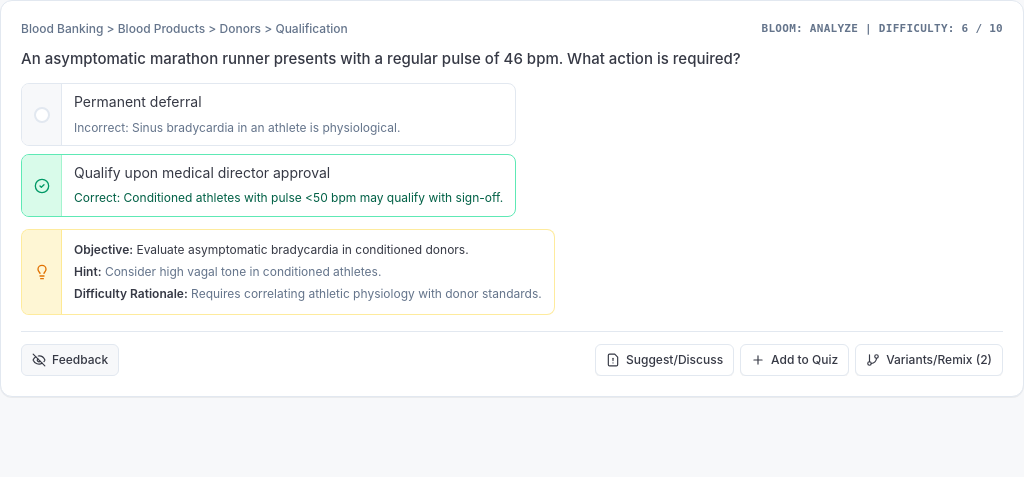
Test case: QuestionCard › renders header bloom/difficulty, removes metadata aside, and switches variants with slide direction
The width and height of the screenshot is (1024, 477).
Check: the text "BLOOM: Analyze | DIFFICULTY: 6 / 10" is shown, box top-left (762, 22), bottom-right (1003, 36)
Check: the text "An asymptomatic marathon runner" is shown, box top-left (21, 49), bottom-right (741, 68)
Click the button "Variants/Remix (2)" at (929, 360), box top-left (855, 344), bottom-right (1003, 376)
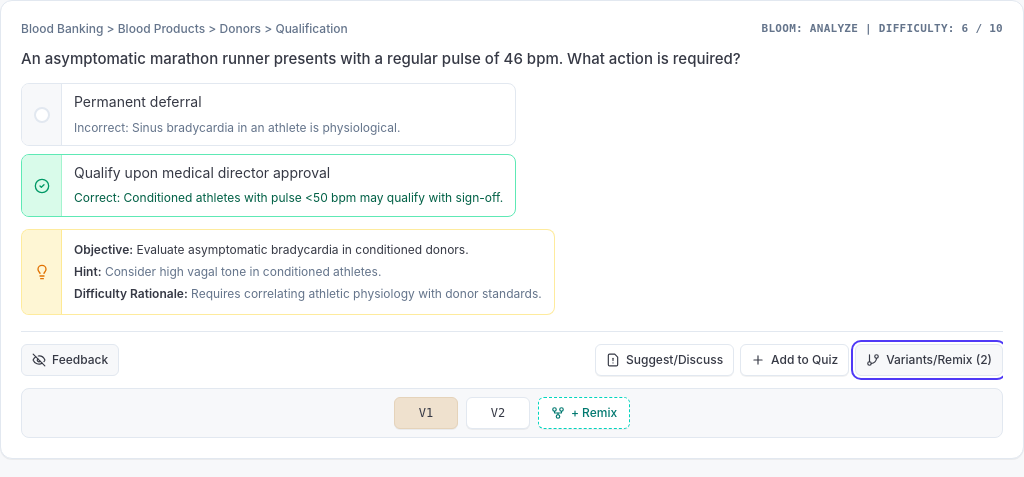
Check: the button "V2" is enabled
Check: the button "+ Remix" is shown, box top-left (538, 397), bottom-right (630, 429)
Click the button "V2" at (498, 413), box top-left (466, 397), bottom-right (530, 429)
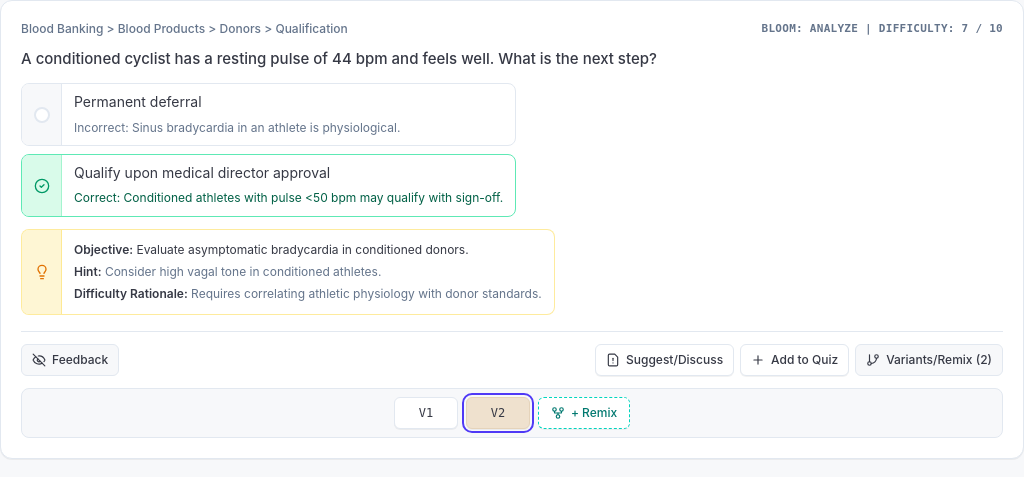
Check: the text "A conditioned cyclist" is shown, box top-left (21, 49), bottom-right (657, 68)
Check: the text "BLOOM: Analyze | DIFFICULTY: 7 / 10" is shown, box top-left (762, 22), bottom-right (1003, 36)
Check: the element with class "animate-slide-in-right" is shown, box top-left (21, 21), bottom-right (1003, 315)
Click the button "V1" at (426, 413), box top-left (394, 397), bottom-right (458, 429)
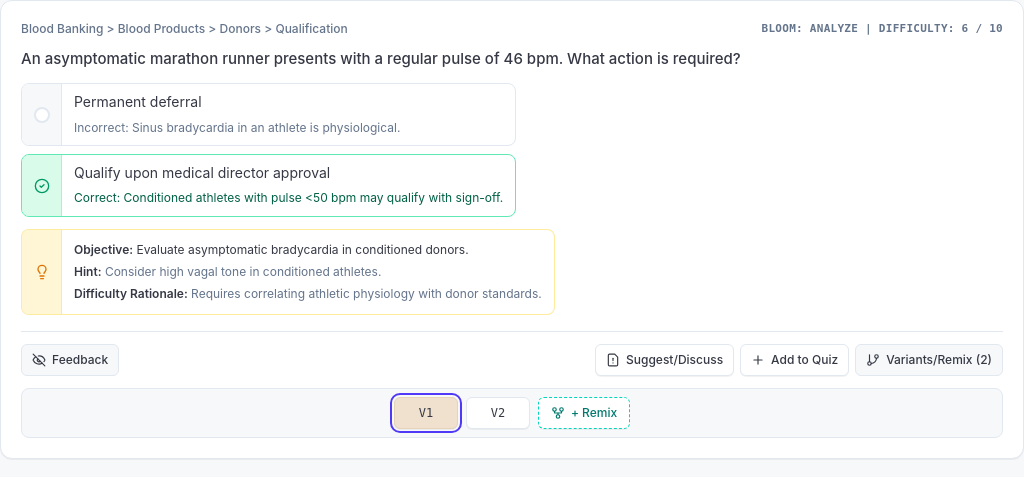
Check: the text "An asymptomatic marathon runner" is shown, box top-left (21, 49), bottom-right (741, 68)
Check: the element with class "animate-slide-in-left" is shown, box top-left (21, 21), bottom-right (1003, 315)
